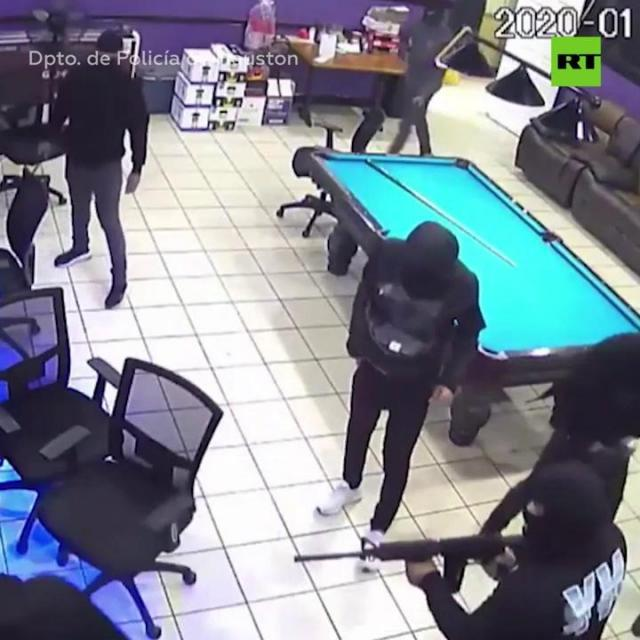weapon: (262, 521, 527, 619)
